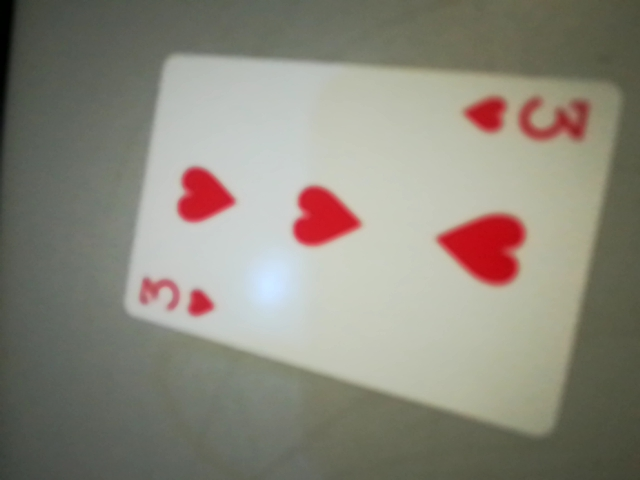hx 3: (456, 84, 606, 153)
